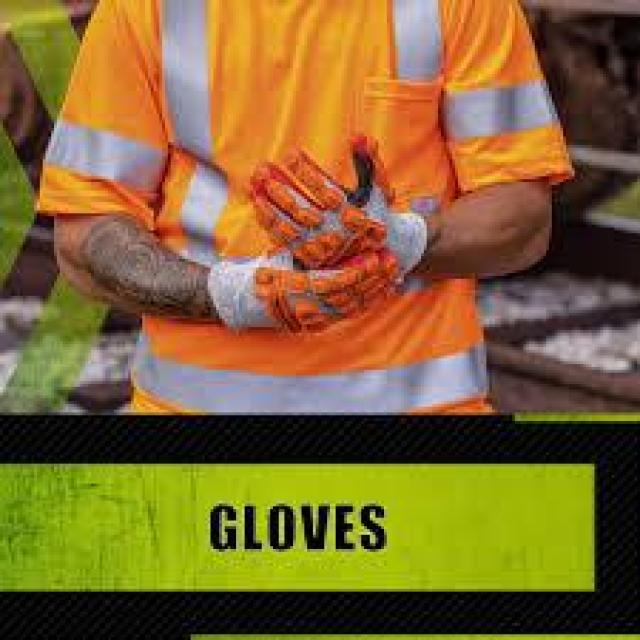Gloves: (246, 123, 437, 298), (211, 233, 401, 344)
Person: (33, 0, 573, 414)
